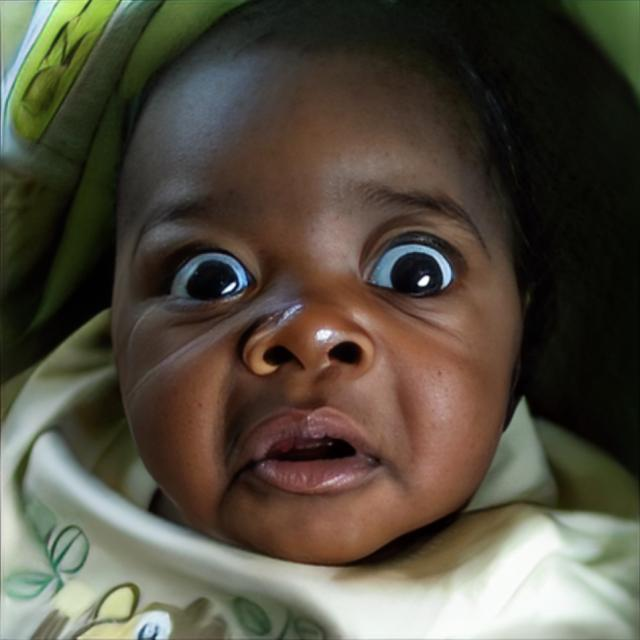Fear: (111, 39, 530, 568)
